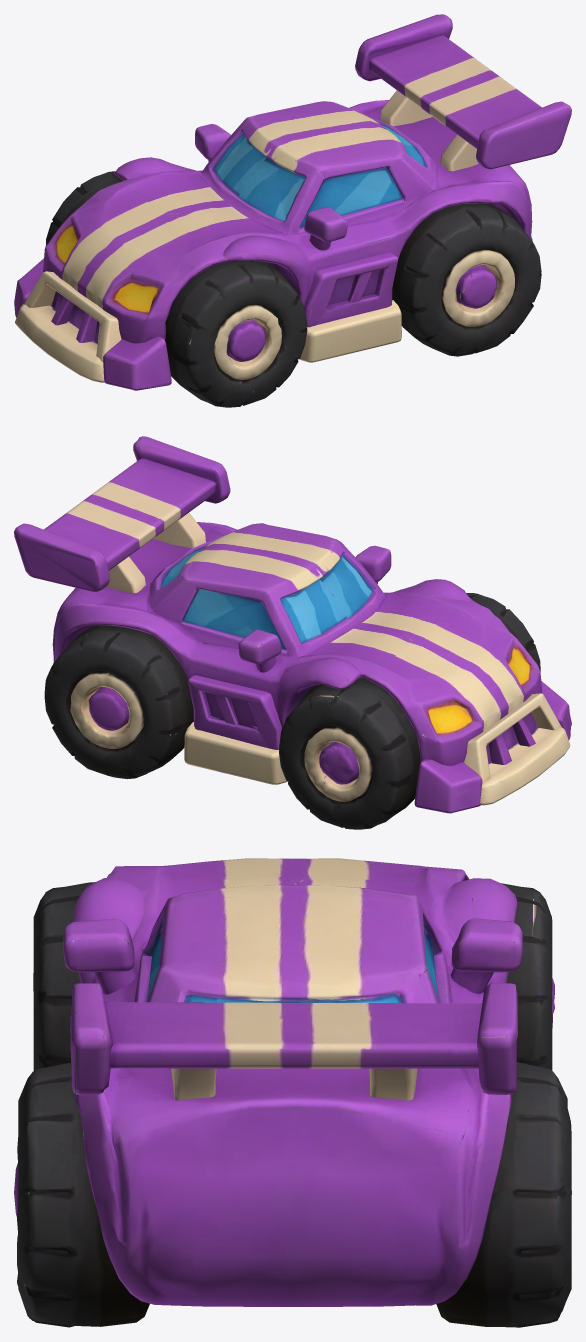
The model's file is race_car.glb.
3 renders of one model, top to bottom at view 1: azimuth 30°, elevation 25°; view 2: azimuth 150°, elevation 25°; view 3: azimuth 270°, elevation 25°, orthographic. The views are drawn at different scales.
Size of what is drawn, in the model's own units: 2.22 by 1 by 1.35.
Materials: 1 (1 with a texture image).
